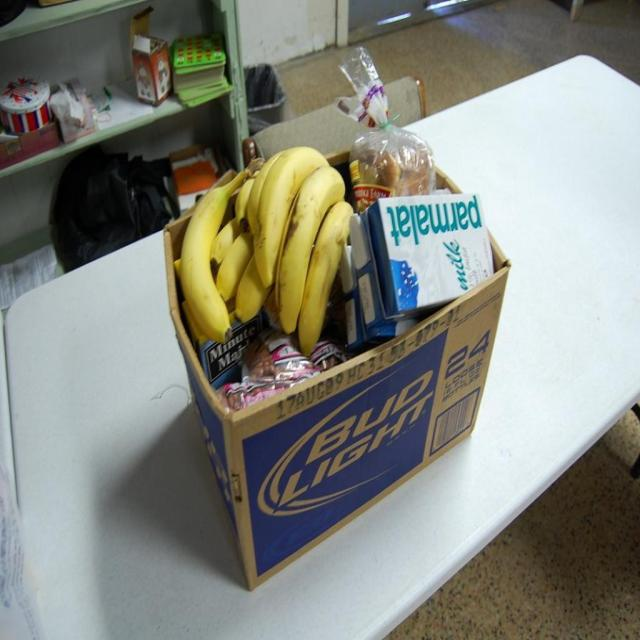banana: (274, 166, 346, 336), (254, 147, 329, 288), (176, 185, 236, 343)
